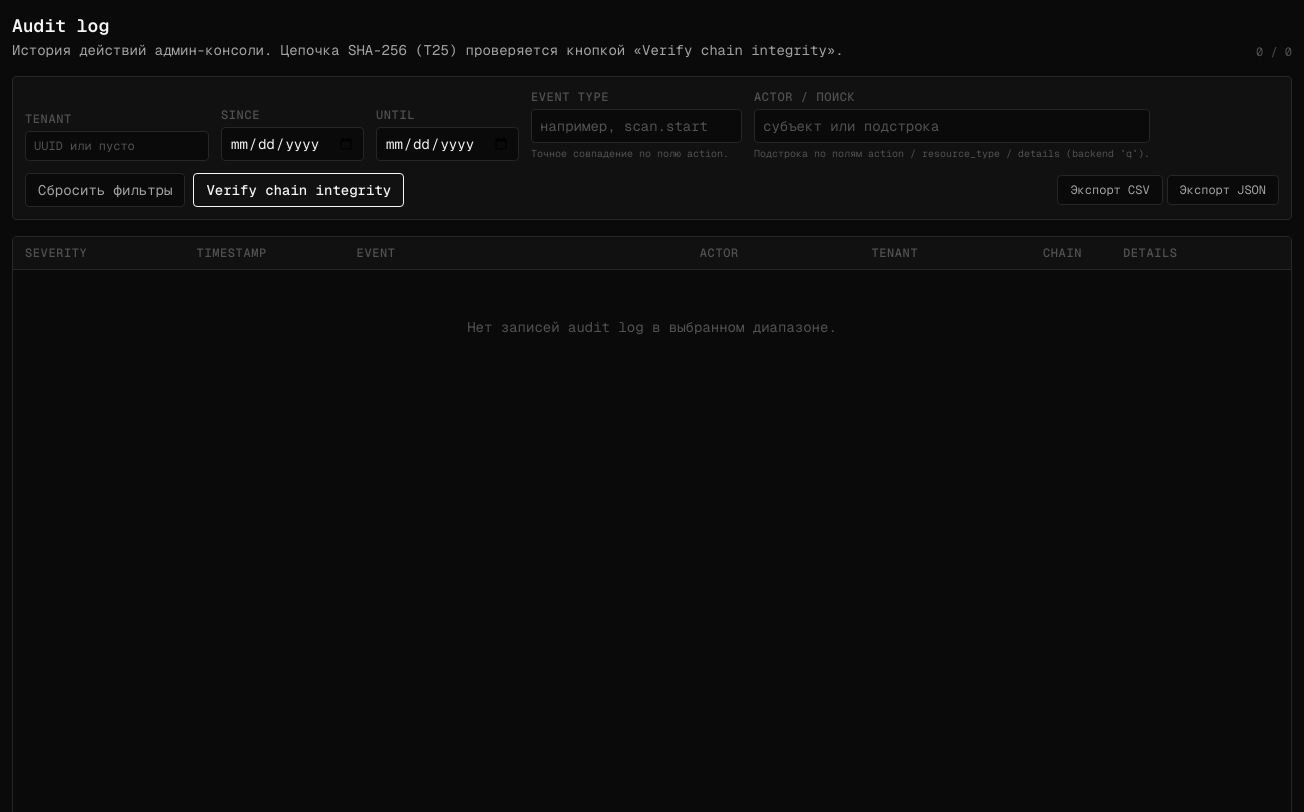
Scenario: AdminAuditLogsClient — super-admin › verify-chain success renders the OK banner with verified_count
Click the button with test id "audit-verify-chain". click: point(299, 190)
box: [193,173,404,207]
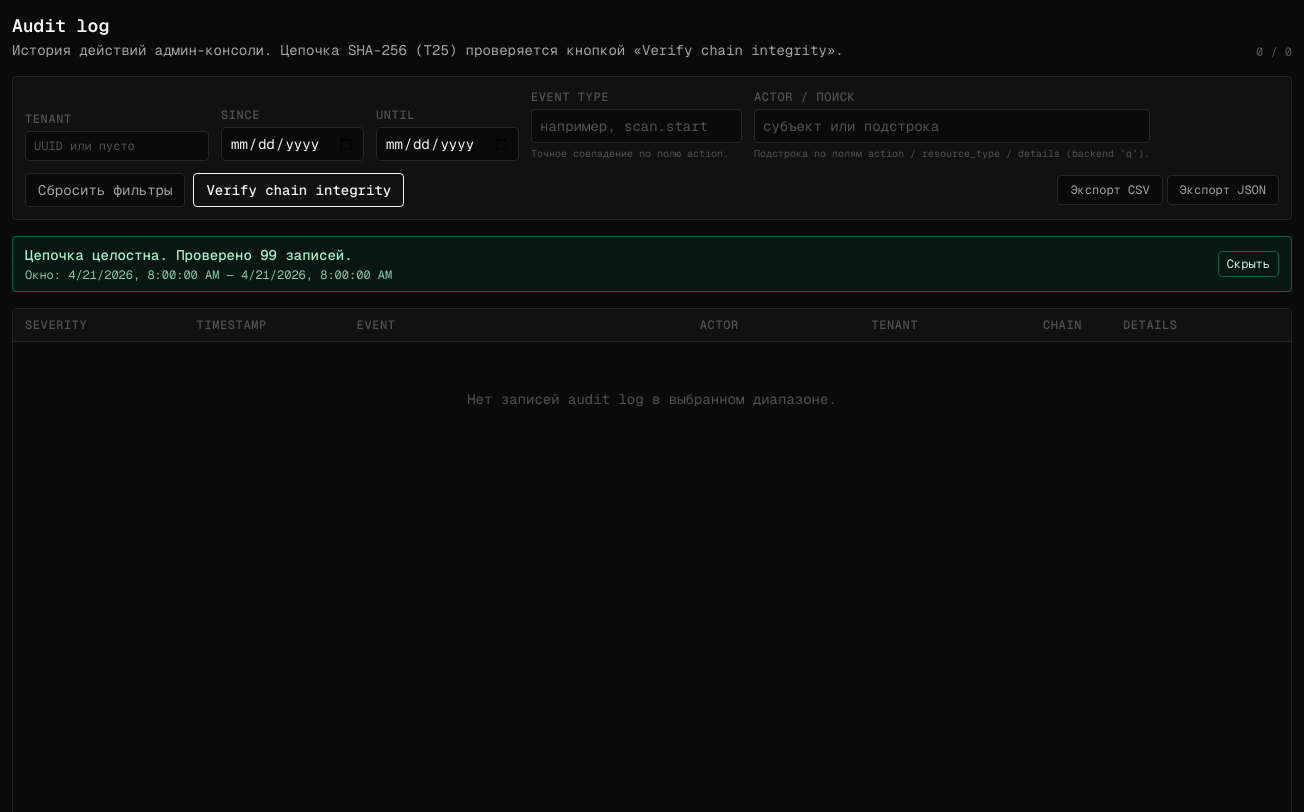
Now the message with test id "audit-chain-ok" shows "99", box [260,246,277,264]
